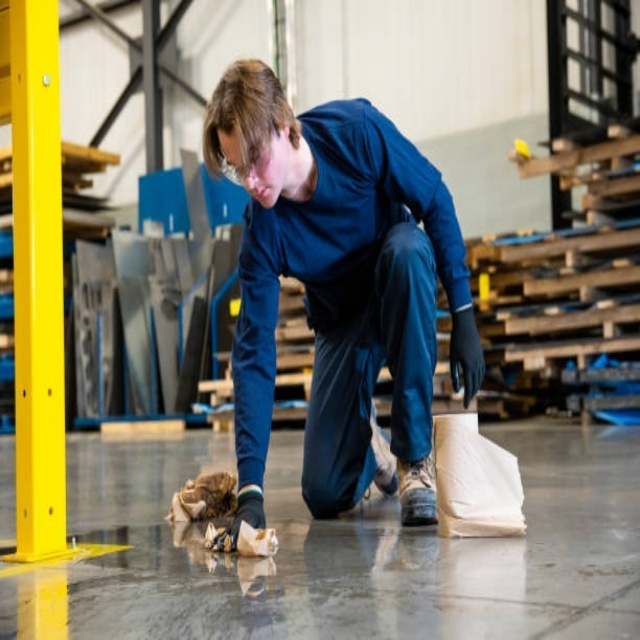Gafas: (221, 127, 273, 193)
Guantes: (445, 307, 488, 411), (227, 480, 271, 555)
Sin_mascara: (248, 176, 279, 207)
